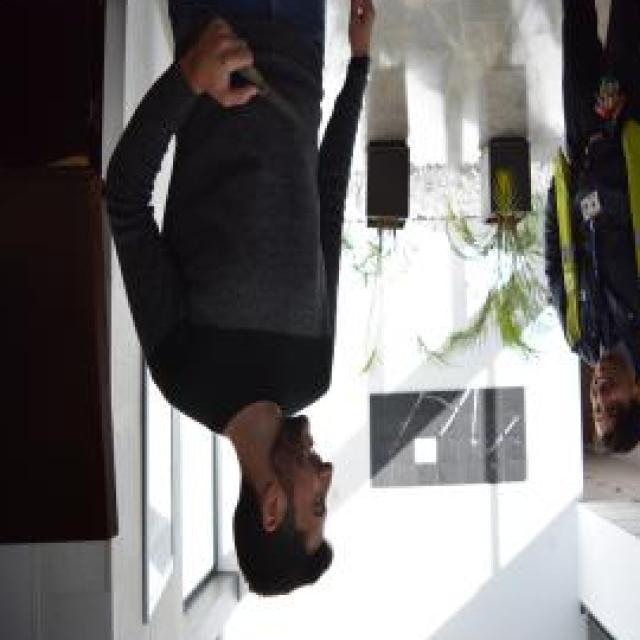knife: (230, 58, 312, 135)
